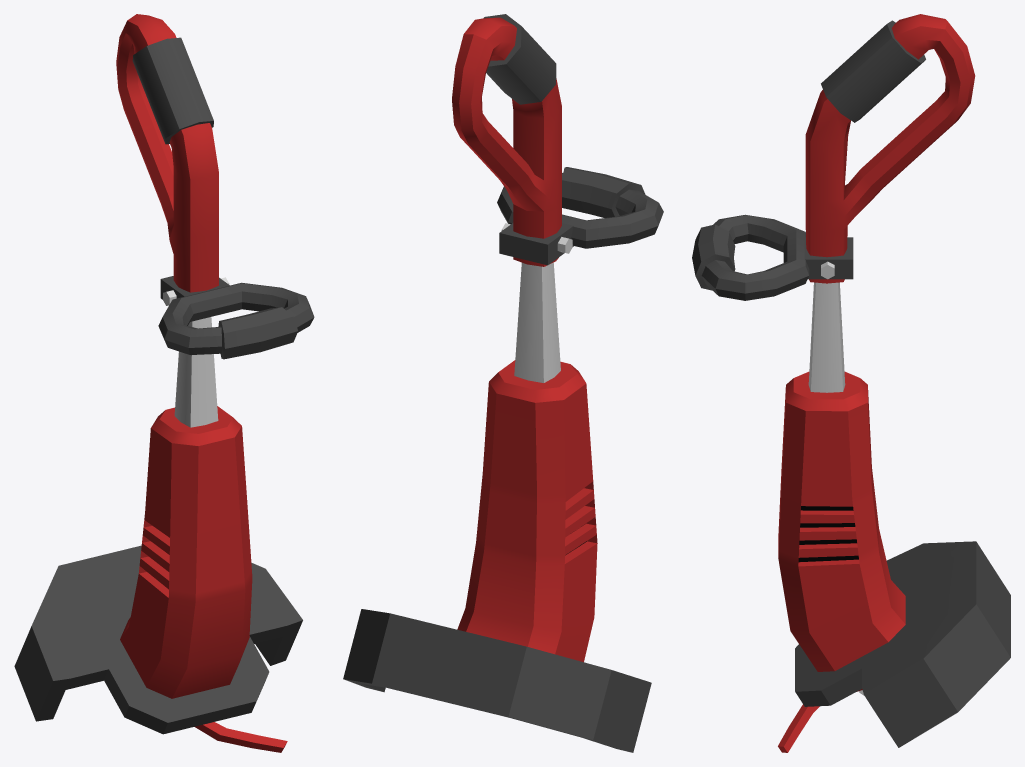
File: weedWhacker_6_19.fbx
3 views of the same model, side by side, from view 1: azimuth 30°, elevation 25°; view 2: azimuth 150°, elevation 25°; view 3: azimuth 270°, elevation 25° (orthographic). The views are drawn at different scales.
Parts seen in each view (by area): view 1: body, black_plastic, metal_bar, blade; view 2: body, black_plastic, metal_bar; view 3: body, black_plastic, metal_bar, blade.
Boxes of the visible parts, x1,y1,x2,y2 form: body: (116, 14, 252, 698); black_plastic: (14, 37, 314, 734); metal_bar: (163, 277, 229, 427); blade: (194, 722, 287, 752); body: (452, 17, 597, 662); black_plastic: (343, 14, 663, 752); metal_bar: (501, 223, 572, 382); body: (778, 14, 975, 671); black_plastic: (692, 20, 1010, 747); metal_bar: (808, 261, 845, 392); blade: (778, 689, 862, 752).
Bounding box in the file's own units: 3.37 × 8.99 × 3.68.
